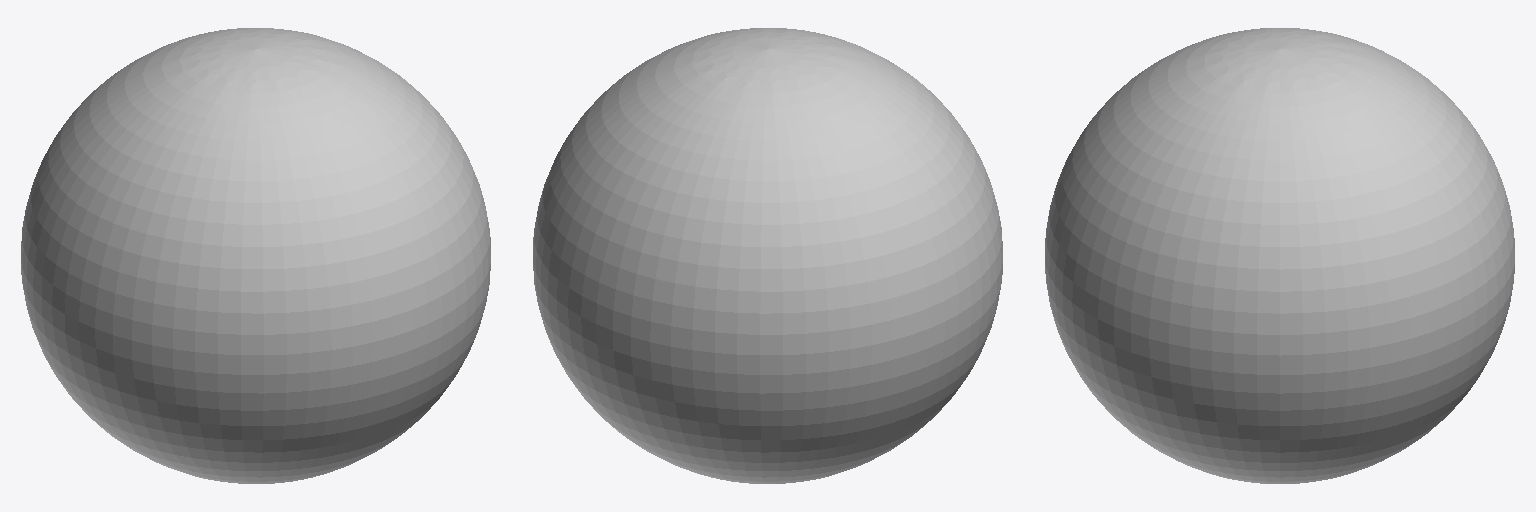
Rendered from jupiter3.obj.
The picture shows the model from 3 angles: view 1: azimuth 30°, elevation 25°; view 2: azimuth 150°, elevation 25°; view 3: azimuth 270°, elevation 25°; orthographic projection.
Parts seen in each view (by area): view 1: Sphere; view 2: Sphere; view 3: Sphere.
Part boxes in pixels (bbox=[...]): Sphere: bbox=[21, 28, 490, 483]; Sphere: bbox=[533, 28, 1002, 483]; Sphere: bbox=[1045, 28, 1514, 483].
Bounding box in the file's own units: 13582 × 13152 × 13582.